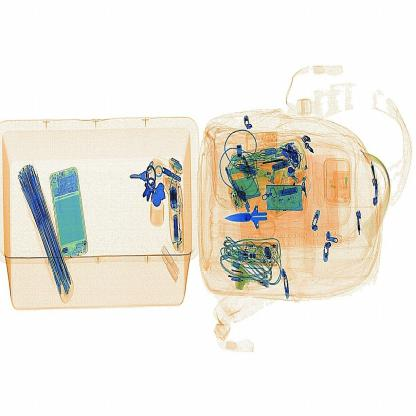gun: (222, 184, 286, 252)
